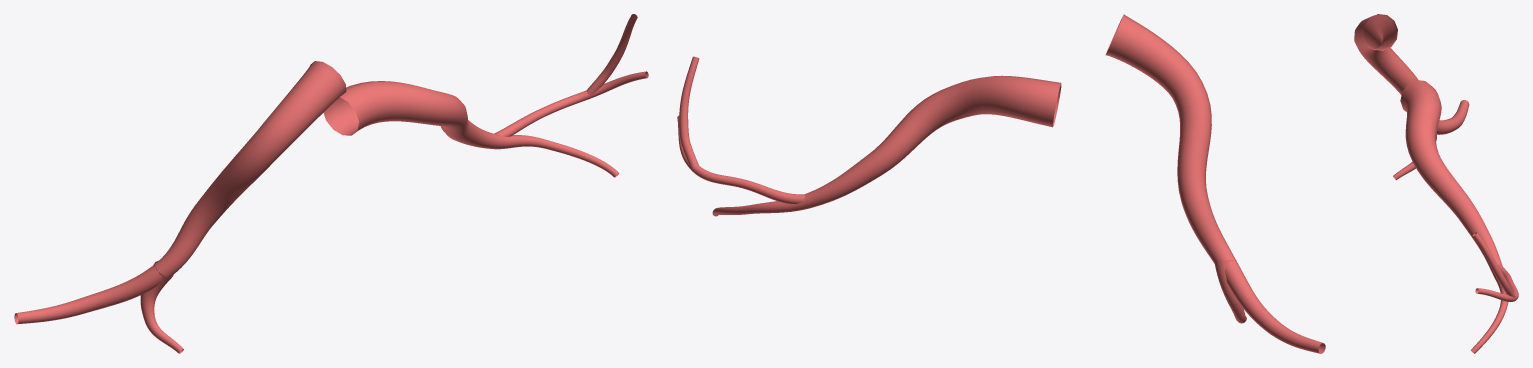
Rendered from Middle_genicular_artery.l_BezierCurve.250.glb.
3 views of the same model, side by side, from view 1: azimuth 30°, elevation 25°; view 2: azimuth 150°, elevation 25°; view 3: azimuth 270°, elevation 25° (orthographic). The views are drawn at different scales.
Parts seen in each view (by area): view 1: Middle_genicular_artery.l_BezierCurve.250; view 2: Middle_genicular_artery.l_BezierCurve.250; view 3: Middle_genicular_artery.l_BezierCurve.250.
Boxes of the visible parts, x1,y1,x2,y2 form: Middle_genicular_artery.l_BezierCurve.250: (14, 14, 648, 353); Middle_genicular_artery.l_BezierCurve.250: (677, 14, 1325, 353); Middle_genicular_artery.l_BezierCurve.250: (1354, 14, 1518, 353).
Size of the model in its own units: 0.0648 by 0.0258 by 0.0176.
